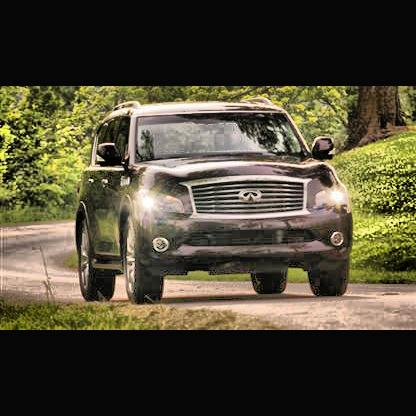Infiniti QX56 SUV 2011: (77, 102, 354, 303)
